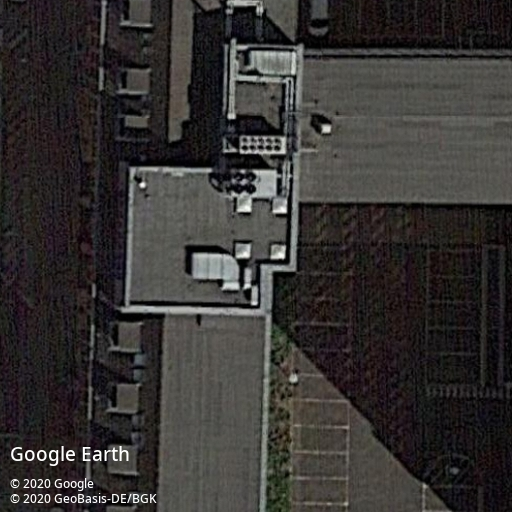Chiller: (239, 135, 286, 154), (230, 169, 260, 197)
